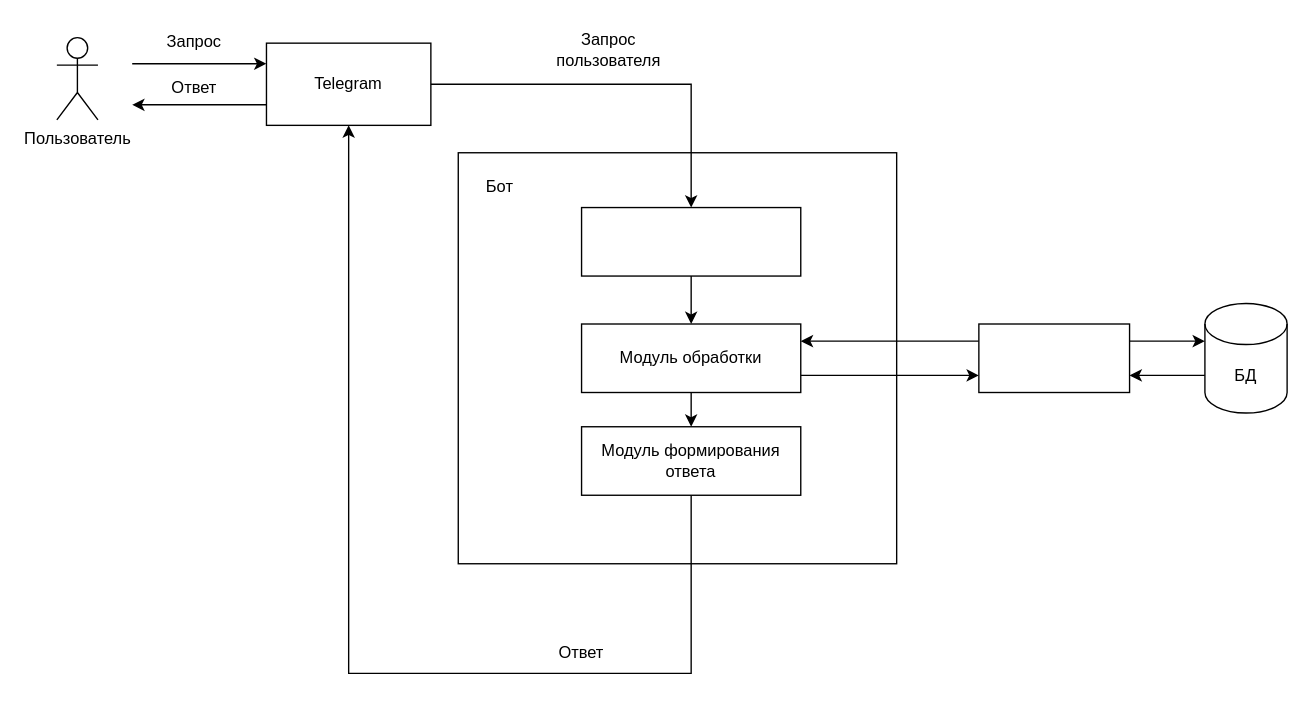
This 1311x708 diagram has some shape labels left out. Here are the shapes that lost their labels. From the top down, the box of each, then its label:
(580, 206, 801, 276): Модуль подготовки данных
(977, 323, 1130, 393): СУБД
